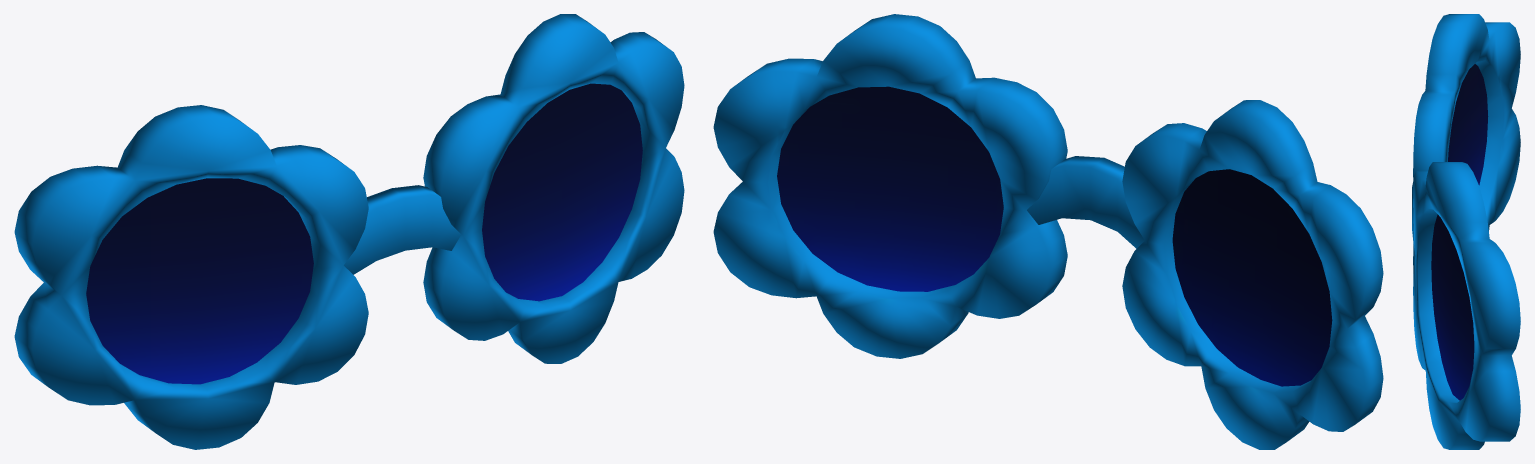
The model's file is AccessoryGlassFlower2.glb.
3 views of the same model, side by side, from view 1: azimuth 30°, elevation 25°; view 2: azimuth 150°, elevation 25°; view 3: azimuth 270°, elevation 25° (orthographic). The views are drawn at different scales.
Visible parts, largest first — view 1: Accessory__mAccessory; view 2: Accessory__mAccessory; view 3: Accessory__mAccessory.
Boxes of the visible parts, x1=… form: Accessory__mAccessory: x1=14, y1=14, x2=684, y2=449; Accessory__mAccessory: x1=713, y1=14, x2=1383, y2=449; Accessory__mAccessory: x1=1412, y1=14, x2=1520, y2=449.
Size of the model in its own units: 5.9 by 2.85 by 1.02.
Materials: 1 (1 with a texture image).
